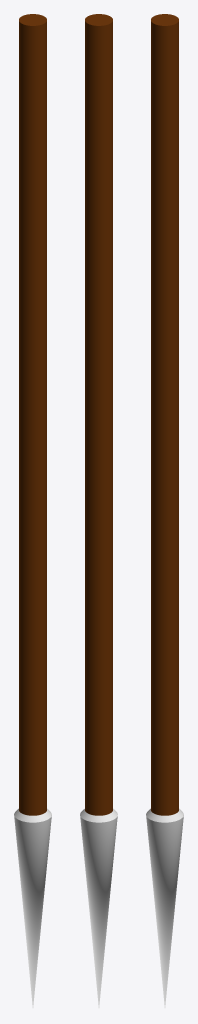
The model's file is spear.fbx.
3 renders of one model, left to right at view 1: azimuth 90°, elevation 25°; view 2: azimuth 150°, elevation 25°; view 3: azimuth 270°, elevation 25°, orthographic.
Visible parts, largest first — view 1: spear; view 2: spear; view 3: spear.
Boxes of the visible parts, x1,y1,x2,y2 form: spear: [14, 14, 51, 1007]; spear: [80, 14, 117, 1007]; spear: [146, 14, 183, 1007].
Bounding box in the file's own units: 268 × 7715 × 268.
